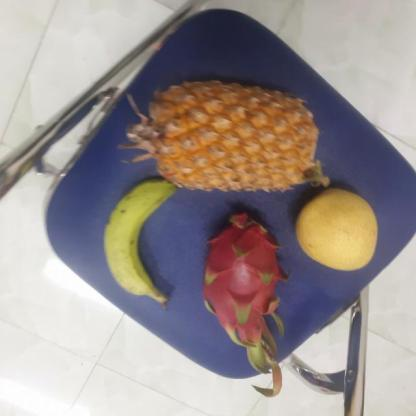banana: (98, 181, 178, 304)
pear: (292, 190, 378, 269)
pineapple: (125, 76, 320, 190)
pitaya: (200, 216, 286, 344)
